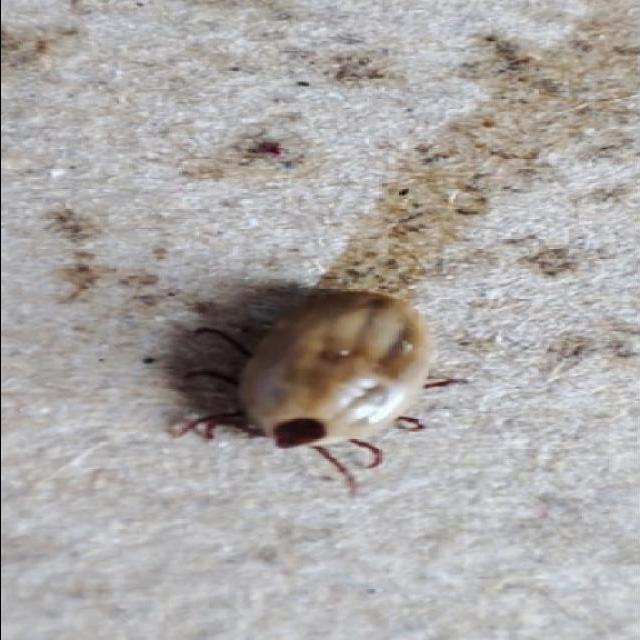Rhipicephalus Sanguineus-F-Fed: (170, 290, 471, 498)
